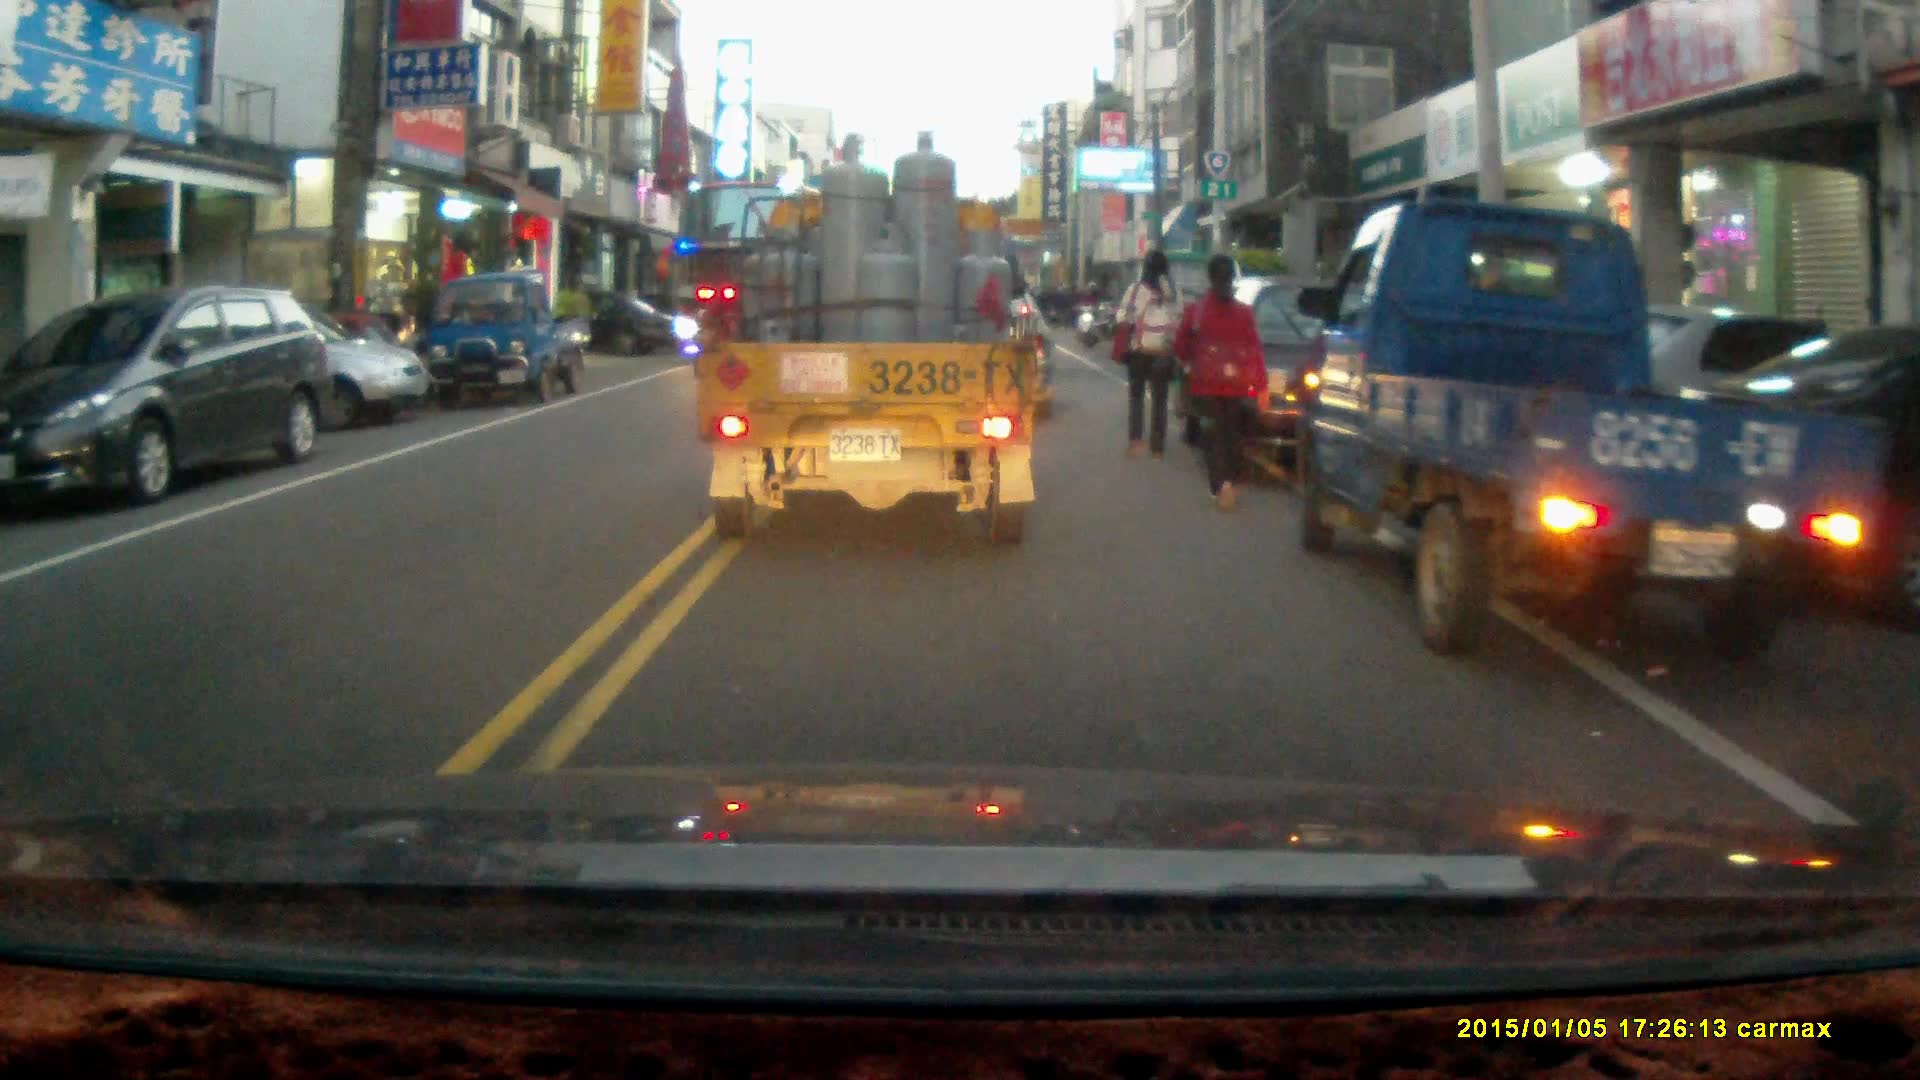pedestrian: (1169, 251, 1268, 509), (1107, 248, 1181, 464)
rider: (1073, 278, 1107, 347)
vehicle: (1297, 194, 1904, 675), (692, 126, 1042, 548), (4, 285, 333, 516), (1184, 275, 1453, 483), (121, 297, 435, 437), (668, 180, 882, 368), (426, 275, 584, 408)
